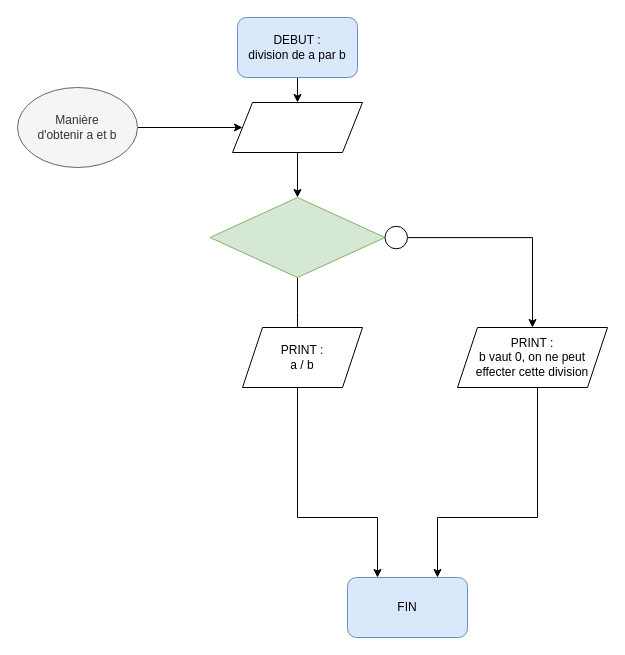
This 625x655 diagram has some shape labels left out. The centre of each missing label's shape, as x and y in pixels:
"b == 0" goes at [297,237].
"Obtention de a et b" goes at [297,127].
